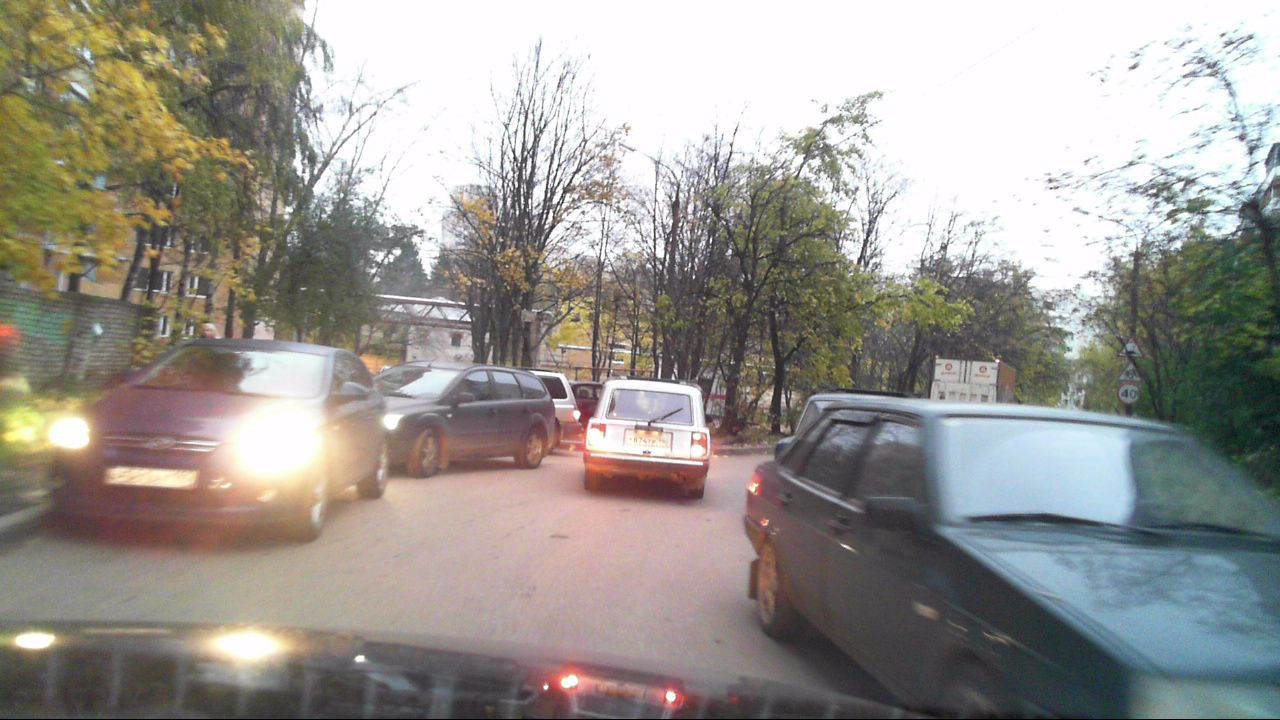speed_warning_40: (1118, 384, 1141, 404)
